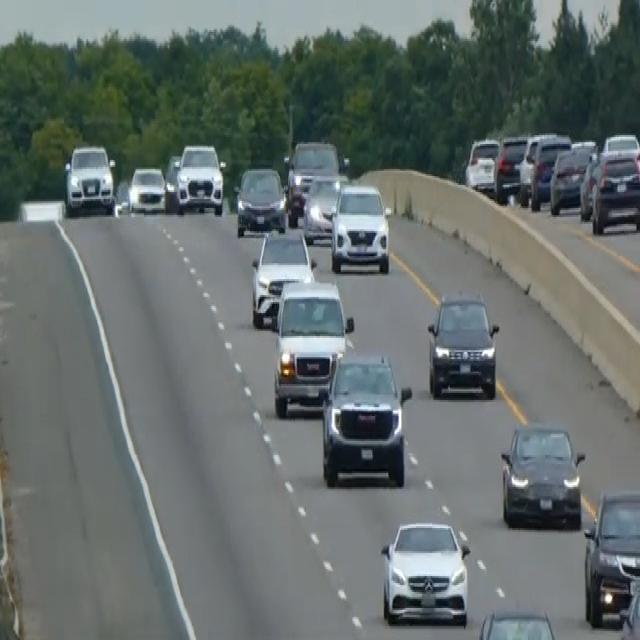car: (379, 517, 471, 626), (499, 420, 585, 528), (426, 290, 500, 400), (582, 487, 639, 628), (250, 226, 315, 329), (329, 181, 390, 274), (285, 137, 340, 222), (591, 148, 639, 235), (233, 164, 286, 236), (301, 170, 350, 243), (176, 141, 224, 215), (549, 140, 595, 213), (530, 133, 571, 208), (475, 606, 558, 638), (518, 130, 553, 204), (493, 133, 528, 203), (464, 135, 500, 194), (128, 164, 166, 214), (578, 151, 600, 219), (617, 571, 639, 638), (163, 153, 181, 211)
jeep: (319, 348, 413, 489), (62, 141, 116, 215)
minivan: (272, 277, 354, 418)
